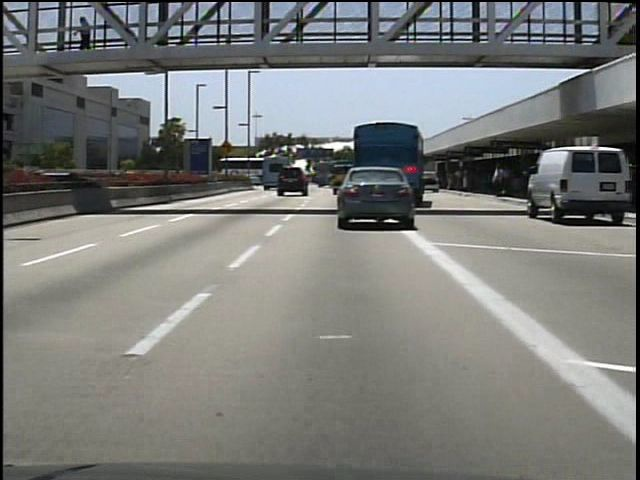person: (76, 16, 98, 63), (491, 162, 507, 199)
